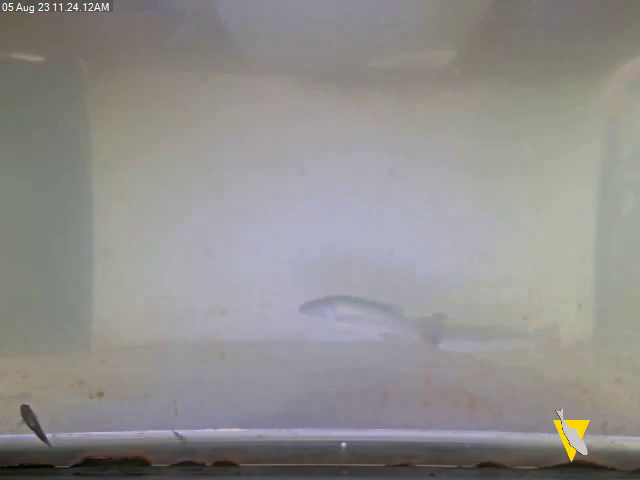\uAC15\uC900\uCE58: (299, 295, 449, 349)
